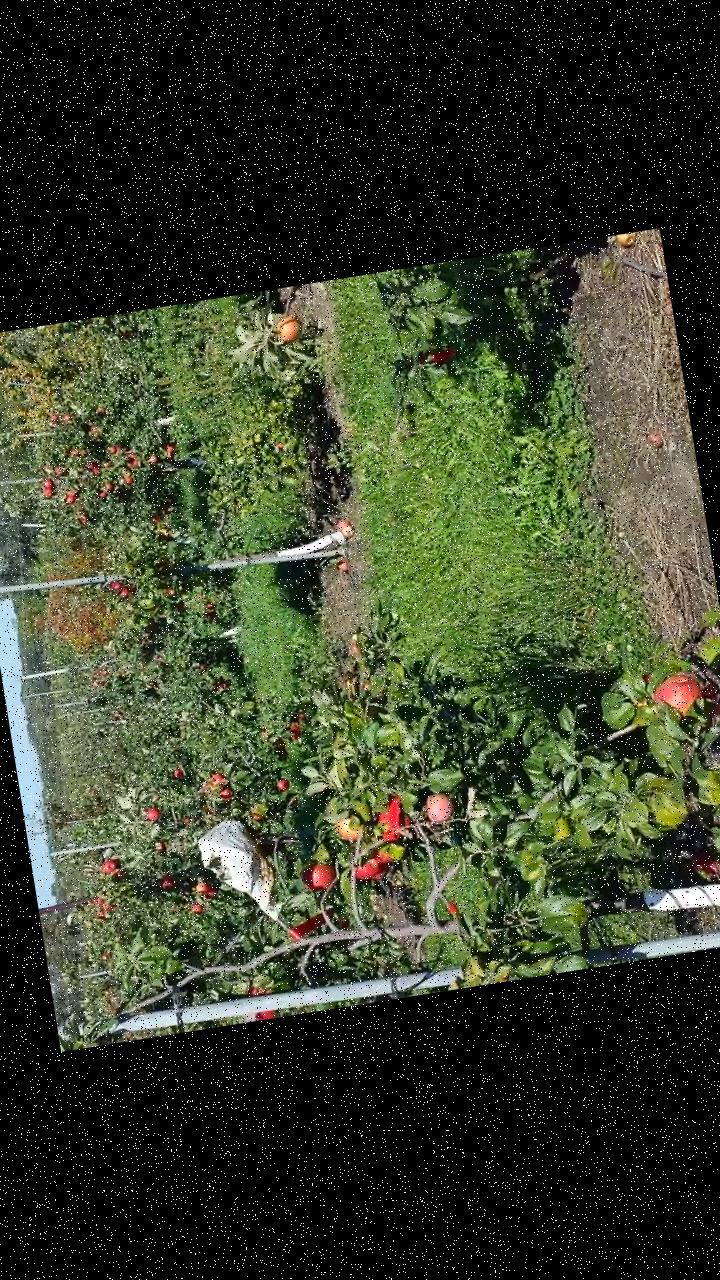Apple: (648, 671, 704, 728), (296, 860, 336, 894), (422, 791, 455, 827), (383, 794, 414, 832), (270, 311, 302, 344), (371, 812, 400, 848), (332, 815, 364, 846), (350, 858, 382, 884), (369, 845, 394, 867), (245, 986, 271, 998), (248, 1010, 276, 1021)
